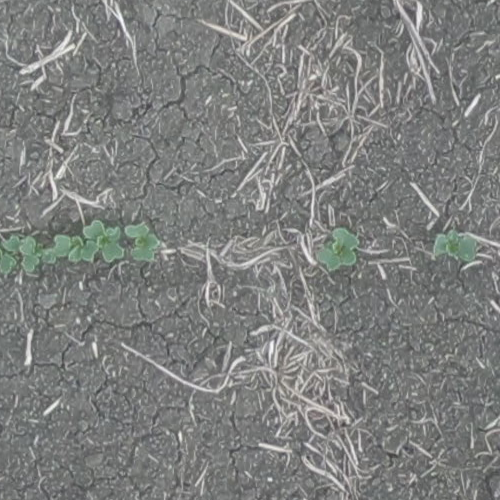clumped: (0, 219, 159, 277)
isolated: (317, 227, 359, 272), (431, 231, 477, 266)
